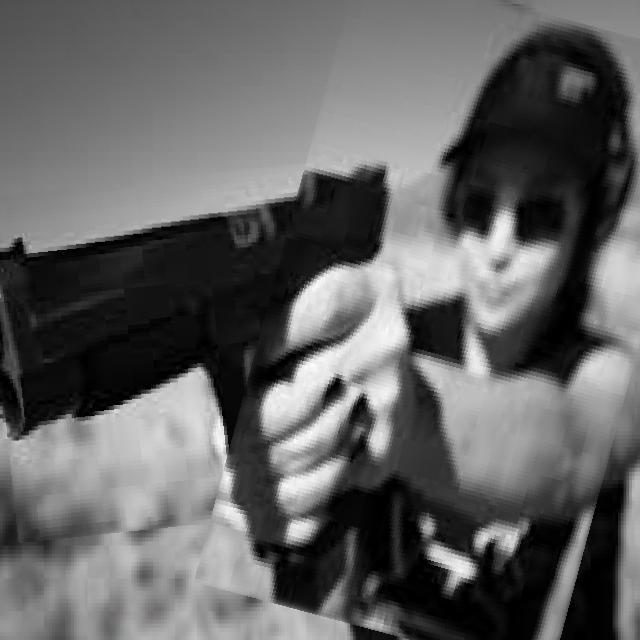Gun_Holder: (8, 158, 413, 520)
Person: (232, 30, 640, 640)
